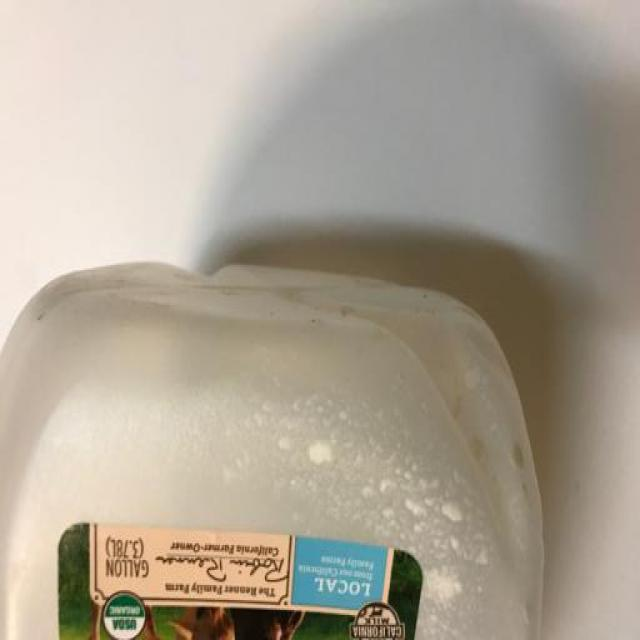plastic_bottle: (12, 236, 551, 640)
